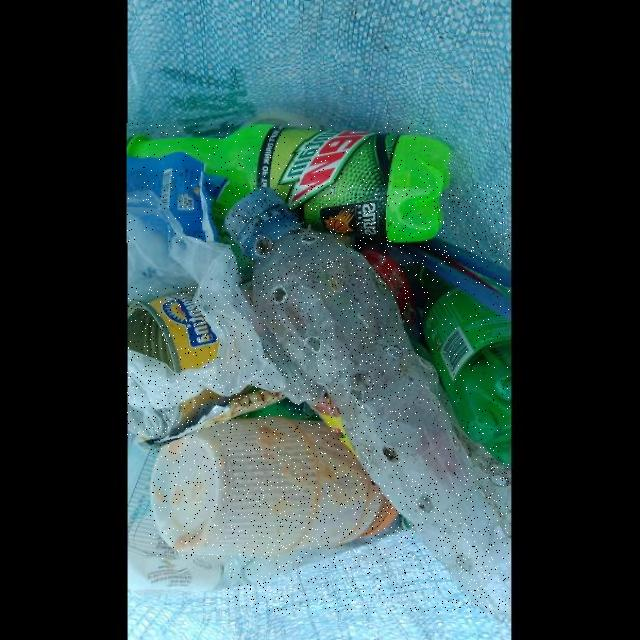metal: (127, 287, 231, 440)
plastic: (225, 185, 510, 614), (126, 123, 451, 243), (149, 415, 401, 559), (411, 264, 510, 466)
